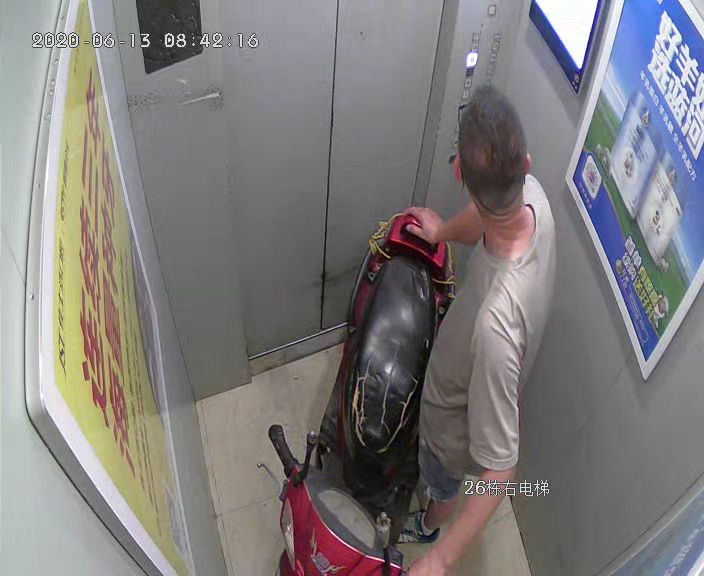Electric-bicycle: (270, 215, 451, 576)
